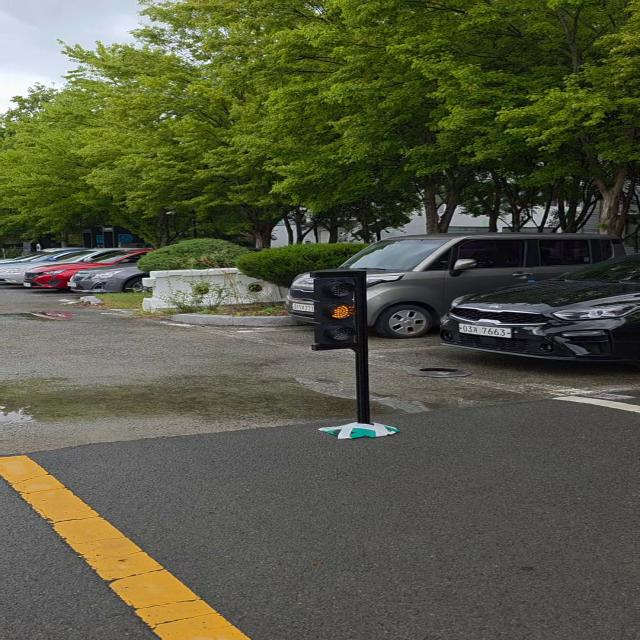yellow: (312, 272, 369, 354)
